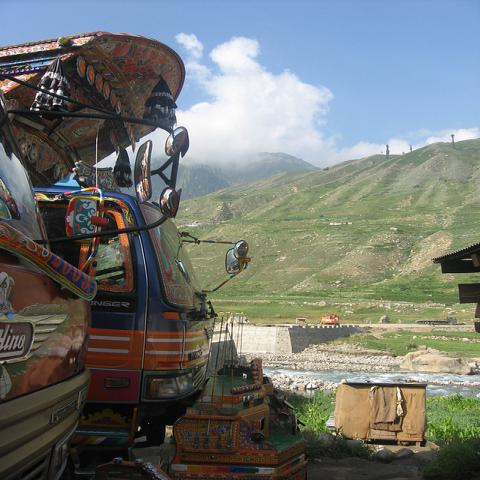bus: (41, 186, 251, 419), (0, 91, 105, 474), (322, 314, 338, 324)
